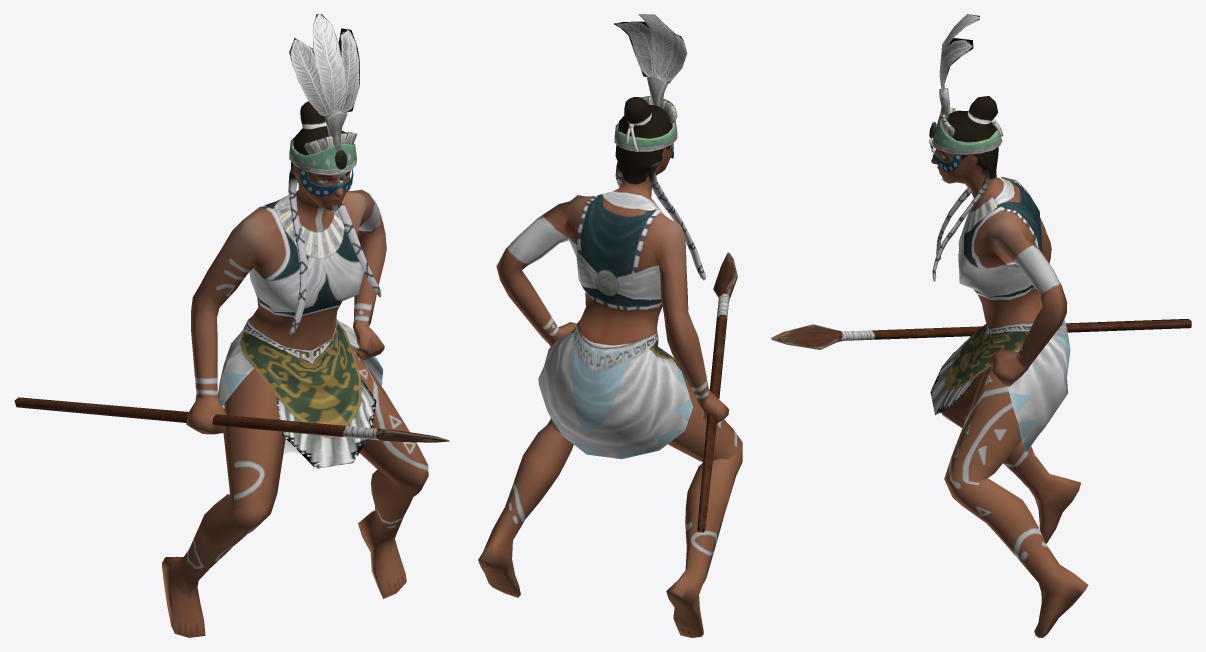
The model's file is rider-base.glb.
3 renders of one model, left to right at view 1: azimuth 30°, elevation 25°; view 2: azimuth 150°, elevation 25°; view 3: azimuth 270°, elevation 25°, orthographic. The views are drawn at different scales.
Bounding box in the file's own units: 1.23 × 2.37 × 1.57.
Materials: 3 (3 with a texture image).
